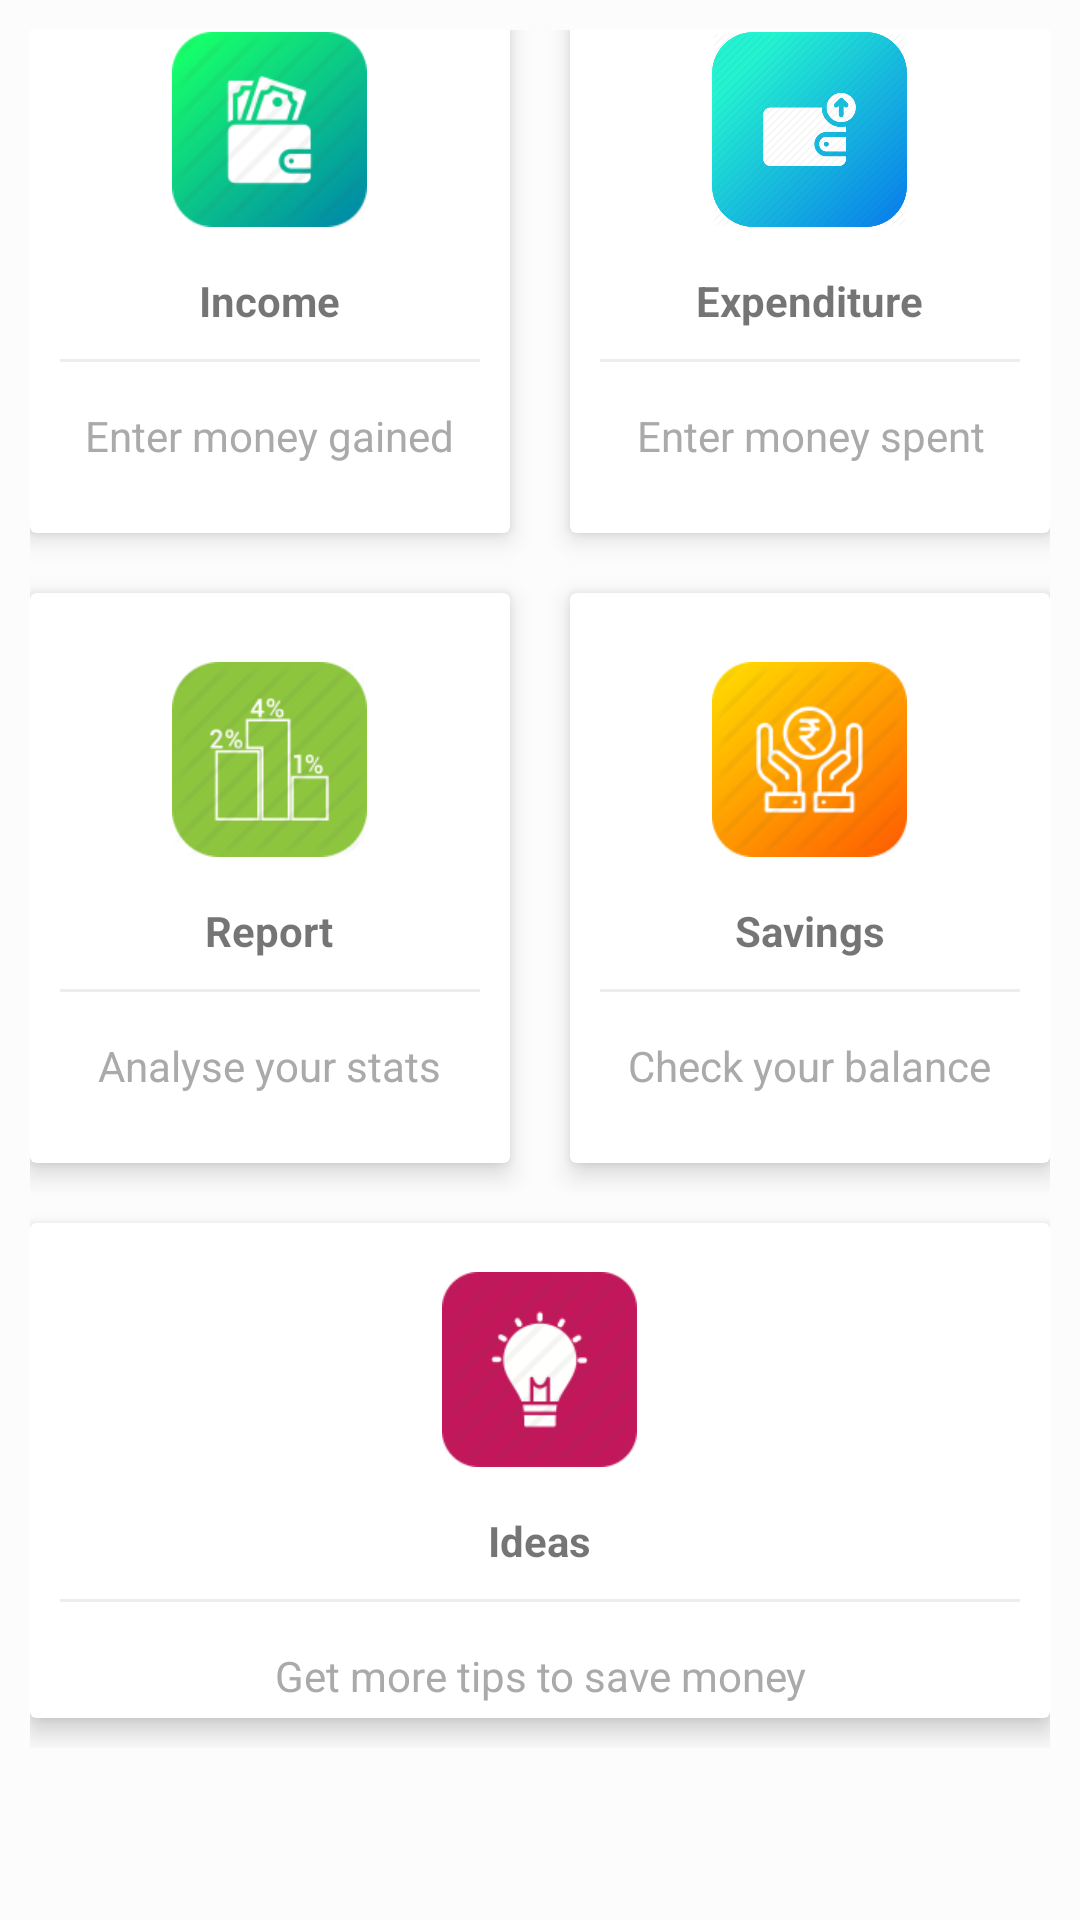

Screen size 1080 x 1920. Icon name, then its box in pixels as rect(x1, y1, x2, y2):
chart: rect(172, 662, 367, 857)
